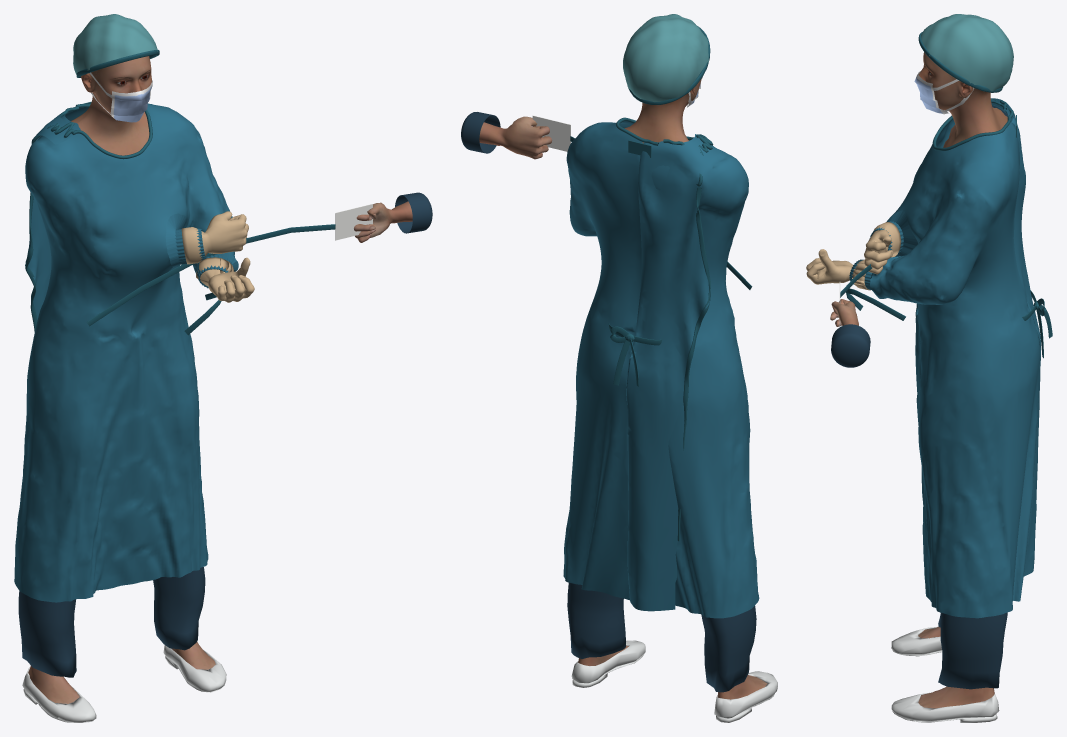
The model's file is paso-7.glb.
3 renders of one model, left to right at view 1: azimuth 30°, elevation 25°; view 2: azimuth 150°, elevation 25°; view 3: azimuth 270°, elevation 25°, orthographic.
Visible parts, largest first — view 1: gown, Human.toigo_wool_pants-static, Human-static, surgical-cap, Human.toigo_flats-static, v2-fitted-glove-R, v2-fitted-glove-L, v2-card-circulator-hand, v2-front-tie-right, Human.joepal_medical_mouth_protection-static, v2-card-circulator-short-sleeve, neck-binding (+1 smaller); view 2: gown, Human.toigo_wool_pants-static, surgical-cap, Human-static, Human.toigo_flats-static, v2-card-circulator-hand, wrap-edge, v2-card-circulator-short-sleeve, v2-transfer-card-no-text, neck-binding; view 3: gown, surgical-cap, Human-static, Human.toigo_wool_pants-static, Human.toigo_flats-static, v2-card-circulator-short-sleeve, v2-fitted-glove-L, v2-fitted-glove-R, Human.joepal_medical_mouth_protection-static, neck-binding, v2-card-circulator-hand, v2-front-tie-left (+1 smaller).
Boxes of the visible parts, x1=… form: gown: x1=14, y1=103, x2=238, y2=602; Human.toigo_wool_pants-static: x1=18, y1=567, x2=205, y2=677; Human-static: x1=28, y1=56, x2=215, y2=703; surgical-cap: x1=73, y1=14, x2=157, y2=74; Human.toigo_flats-static: x1=22, y1=645, x2=226, y2=722; v2-fitted-glove-R: x1=181, y1=211, x2=248, y2=264; v2-fitted-glove-L: x1=196, y1=257, x2=254, y2=302; v2-card-circulator-hand: x1=354, y1=201, x2=412, y2=242; v2-front-tie-right: x1=86, y1=224, x2=335, y2=326; Human.joepal_medical_mouth_protection-static: x1=89, y1=72, x2=152, y2=122; v2-card-circulator-short-sleeve: x1=395, y1=192, x2=432, y2=233; neck-binding: x1=31, y1=103, x2=152, y2=159; gown: x1=563, y1=121, x2=759, y2=618; Human.toigo_wool_pants-static: x1=567, y1=582, x2=756, y2=692; surgical-cap: x1=623, y1=14, x2=708, y2=102; Human-static: x1=578, y1=78, x2=767, y2=699; Human.toigo_flats-static: x1=571, y1=640, x2=777, y2=722; v2-card-circulator-hand: x1=479, y1=116, x2=552, y2=159; wrap-edge: x1=677, y1=187, x2=710, y2=541; v2-card-circulator-short-sleeve: x1=461, y1=112, x2=500, y2=153; v2-transfer-card-no-text: x1=532, y1=115, x2=570, y2=151; neck-binding: x1=616, y1=117, x2=713, y2=186; gown: x1=870, y1=98, x2=1040, y2=618; surgical-cap: x1=921, y1=14, x2=1013, y2=91; Human-static: x1=918, y1=52, x2=1007, y2=708; Human.toigo_wool_pants-static: x1=938, y1=612, x2=1007, y2=689; Human.toigo_flats-static: x1=891, y1=626, x2=999, y2=722; v2-card-circulator-short-sleeve: x1=831, y1=324, x2=870, y2=367; v2-fitted-glove-L: x1=806, y1=249, x2=870, y2=290; v2-fitted-glove-R: x1=864, y1=222, x2=901, y2=274; Human.joepal_medical_mouth_protection-static: x1=914, y1=71, x2=974, y2=114; neck-binding: x1=932, y1=99, x2=1015, y2=150; v2-card-circulator-hand: x1=830, y1=299, x2=858, y2=326; v2-front-tie-left: x1=846, y1=288, x2=905, y2=320.
Size of the model in its own units: 0.9236 by 1.7 by 0.5719.
Materials: 23 (9 with a texture image).
